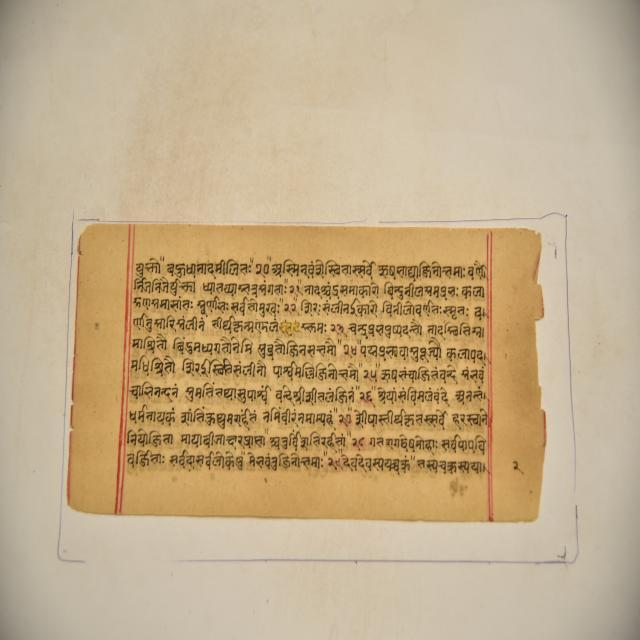text_paragraph: (69, 224, 541, 520)
